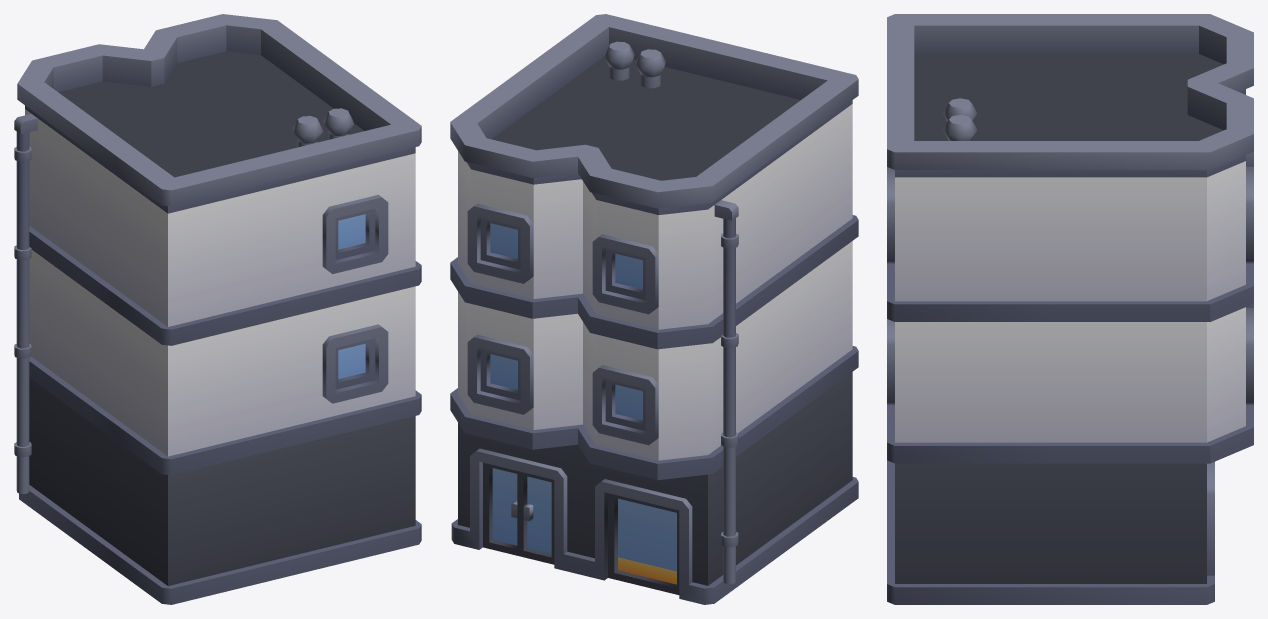
File: commercial-building-a.glb
The picture shows the model from 3 angles, left to right: view 1: azimuth 30°, elevation 25°; view 2: azimuth 150°, elevation 25°; view 3: azimuth 270°, elevation 25°; orthographic projection. The views are drawn at different scales.
Parts seen in each view (by area): view 1: building-a; view 2: building-a; view 3: building-a.
Boxes of the visible parts, x1,y1,x2,y2 form: building-a: [14, 14, 421, 604]; building-a: [450, 14, 858, 604]; building-a: [887, 14, 1253, 604].
Bounding box in the file's own units: 0.8835 × 1.29 × 0.94.
Materials: 1 (1 with a texture image).
